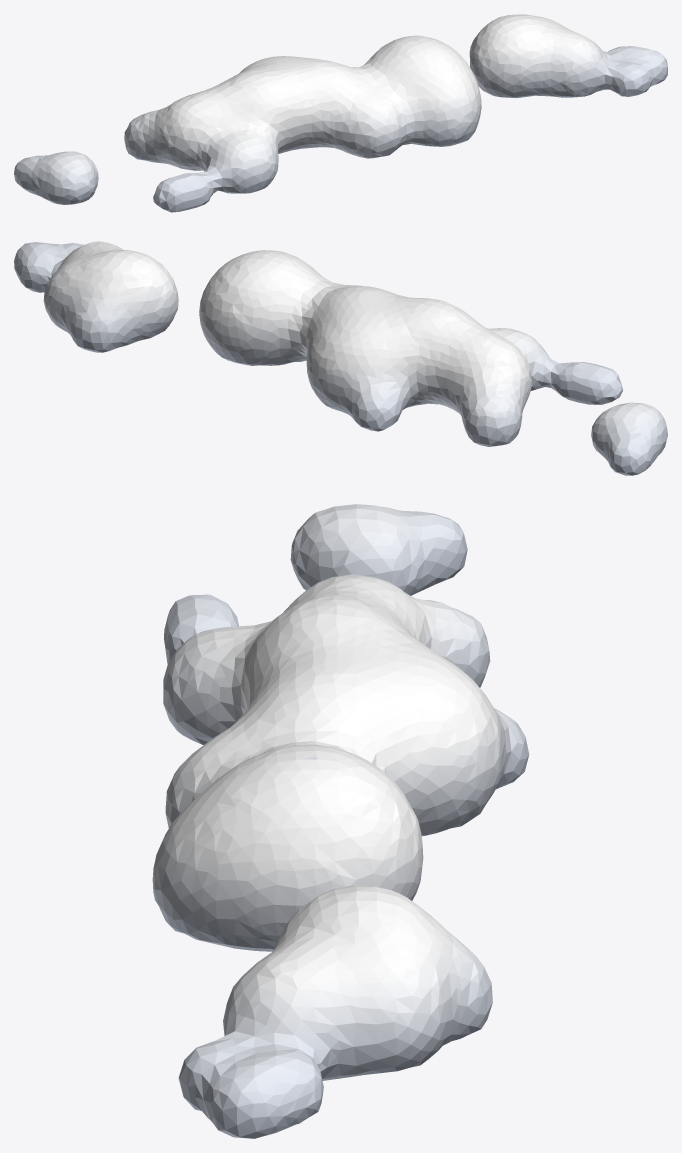
File: Cloud_GroundRow.obj
The picture shows the model from 3 angles, top to bottom: view 1: azimuth 30°, elevation 25°; view 2: azimuth 150°, elevation 25°; view 3: azimuth 270°, elevation 25°; orthographic projection. The views are drawn at different scales.
Visible parts, largest first — view 1: Cloud; view 2: Cloud; view 3: Cloud.
Boxes of the visible parts, x1=… form: Cloud: x1=14, y1=14, x2=667, y2=212; Cloud: x1=14, y1=241, x2=667, y2=475; Cloud: x1=152, y1=504, x2=529, y2=1138.
Size of the model in its own units: 62.07 by 8.24 by 16.8.
1 material, 1 textured.
